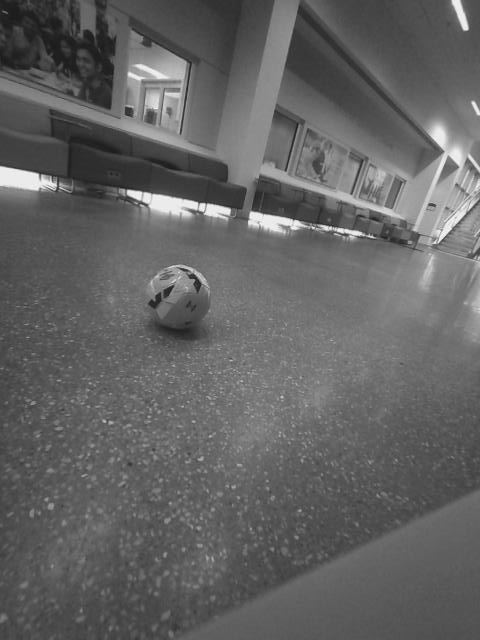ball: (201, 146, 261, 209)
